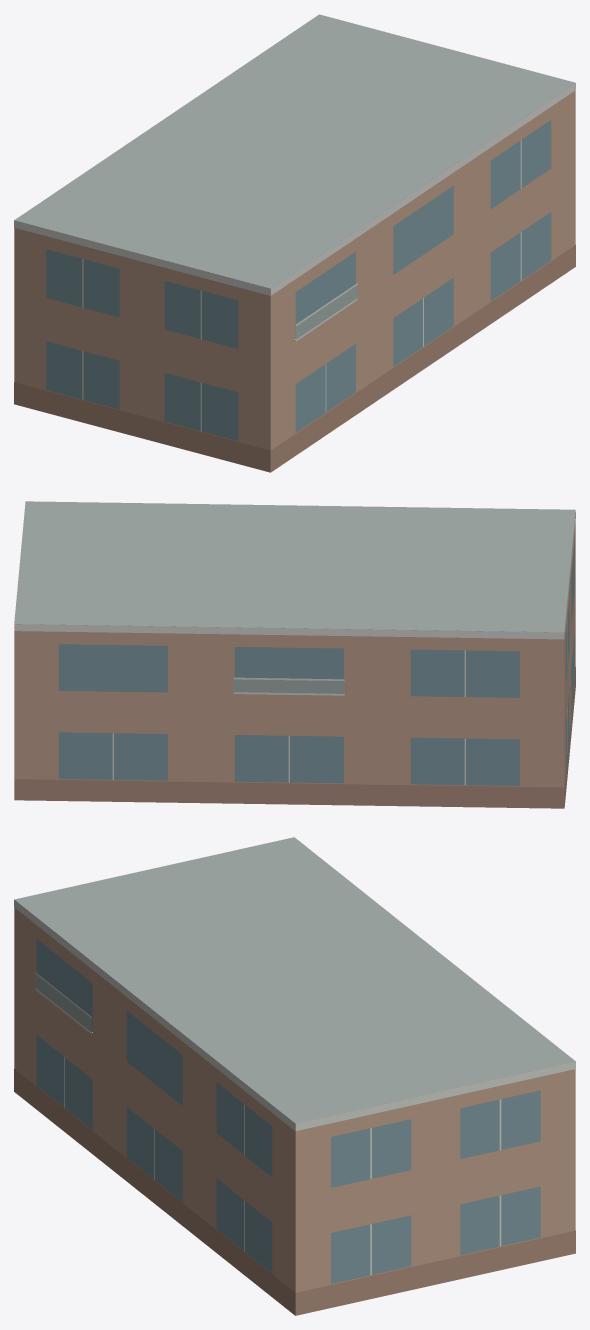
The model's file is survey-upis-32856455.glb.
3 views of the same model, one above another, from view 1: azimuth 30°, elevation 25°; view 2: azimuth 150°, elevation 25°; view 3: azimuth 270°, elevation 25° (orthographic). The views are drawn at different scales.
Visible parts, largest first — view 1: survey-upis-32856455.tmp; view 2: survey-upis-32856455.tmp; view 3: survey-upis-32856455.tmp.
Boxes of the visible parts, x1,y1,x2,y2 form: survey-upis-32856455.tmp: (14, 14, 575, 472); survey-upis-32856455.tmp: (14, 501, 575, 808); survey-upis-32856455.tmp: (14, 837, 575, 1315).
Bounding box in the file's own units: 19.52 × 6.1 × 16.17.
